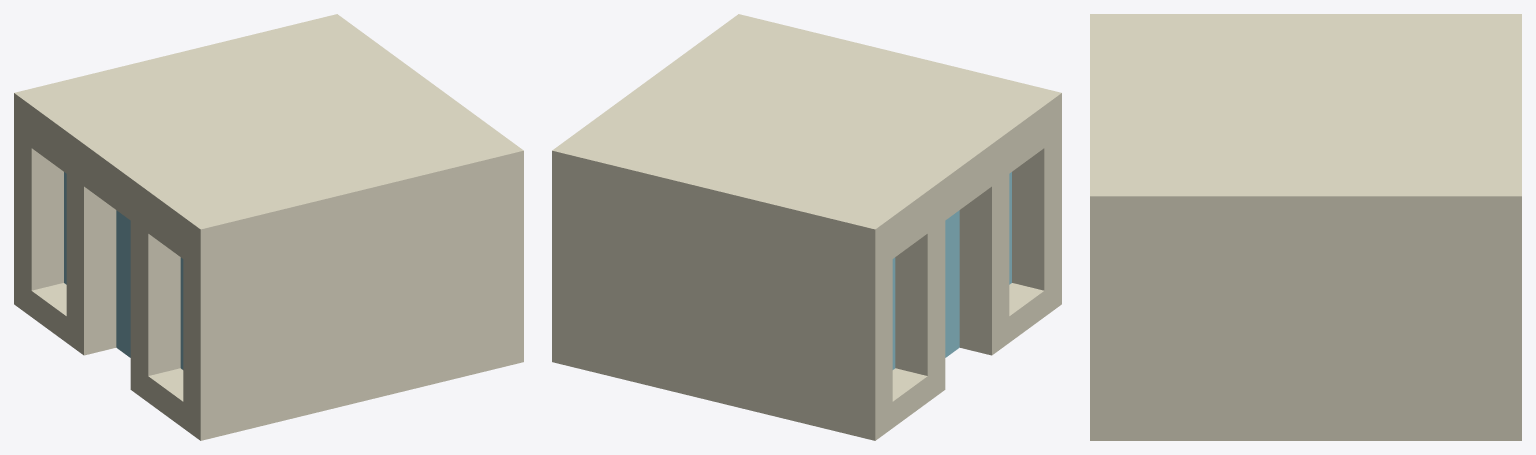
Rendered from modularBuildings_054.fbx.
3 views of the same model, side by side, from view 1: azimuth 30°, elevation 25°; view 2: azimuth 150°, elevation 25°; view 3: azimuth 270°, elevation 25° (orthographic). The views are drawn at different scales.
Parts seen in each view (by area): view 1: Brick.Brick.Mesh1 Group1 Model, Glass.Glass.Glass; view 2: Brick.Brick.Mesh1 Group1 Model, Glass.Glass.Glass; view 3: Brick.Brick.Mesh1 Group1 Model.
Boxes of the visible parts, x1=… form: Brick.Brick.Mesh1 Group1 Model: x1=14, y1=14, x2=523, y2=440; Glass.Glass.Glass: x1=64, y1=172, x2=183, y2=369; Brick.Brick.Mesh1 Group1 Model: x1=552, y1=14, x2=1061, y2=440; Glass.Glass.Glass: x1=892, y1=172, x2=1011, y2=369; Brick.Brick.Mesh1 Group1 Model: x1=1090, y1=14, x2=1521, y2=440.
Size of the model in its own units: 1 by 0.625 by 1.
